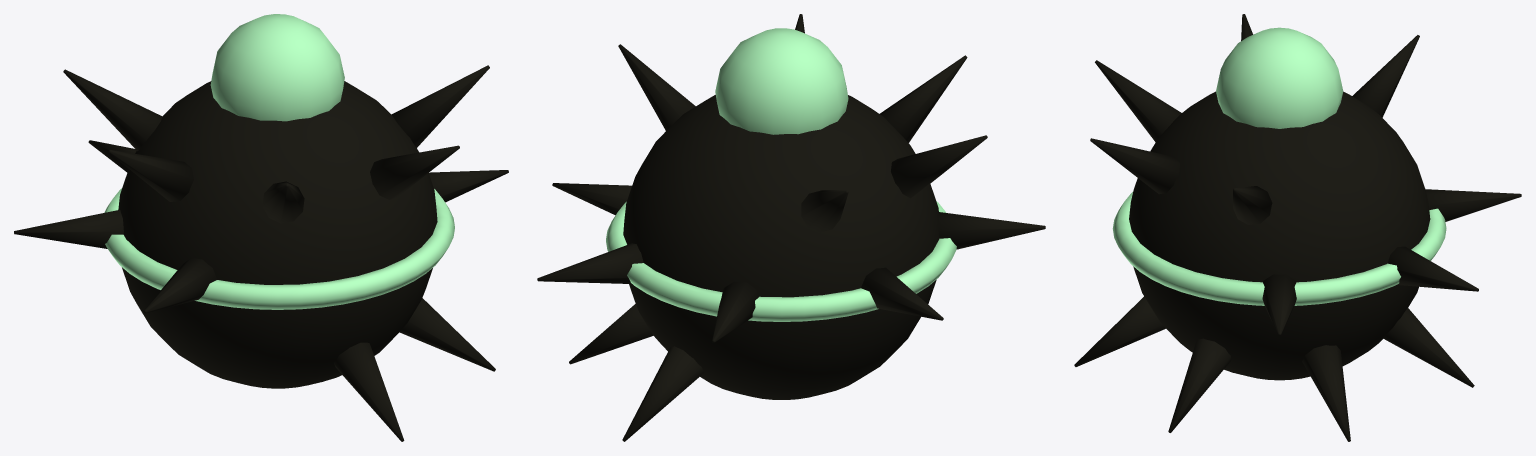
The model's file is babysamen.obj.
3 renders of one model, left to right at view 1: azimuth 30°, elevation 25°; view 2: azimuth 150°, elevation 25°; view 3: azimuth 270°, elevation 25°, orthographic. The views are drawn at different scales.
Parts seen in each view (by area): view 1: Babysamen; view 2: Babysamen; view 3: Babysamen.
Part boxes in pixels (x1,y1,x2,y2): Babysamen: (14,14,508,441); Babysamen: (537,14,1045,441); Babysamen: (1074,14,1521,441).
Size of the model in its own units: 3.18 by 2.42 by 2.95.
